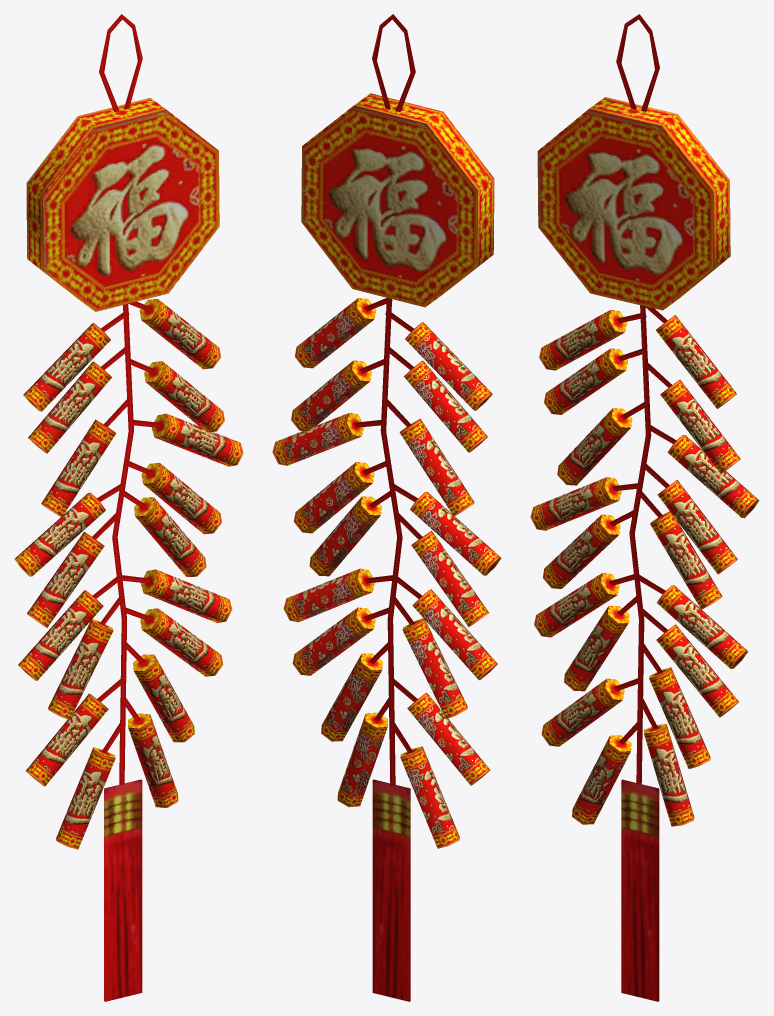
File: furni_0200223.FBX
3 views of the same model, side by side, from view 1: azimuth 30°, elevation 25°; view 2: azimuth 150°, elevation 25°; view 3: azimuth 330°, elevation 25° (orthographic).
Visible parts, largest first — view 1: furni_0200223; view 2: furni_0200223; view 3: furni_0200223.
Boxes of the visible parts, bbox=[...] form: furni_0200223: bbox=[14, 14, 243, 1001]; furni_0200223: bbox=[272, 14, 501, 1001]; furni_0200223: bbox=[530, 14, 759, 1001].
Size of the model in its own units: 49.1 by 206 by 6.32.
1 material, 1 textured.
